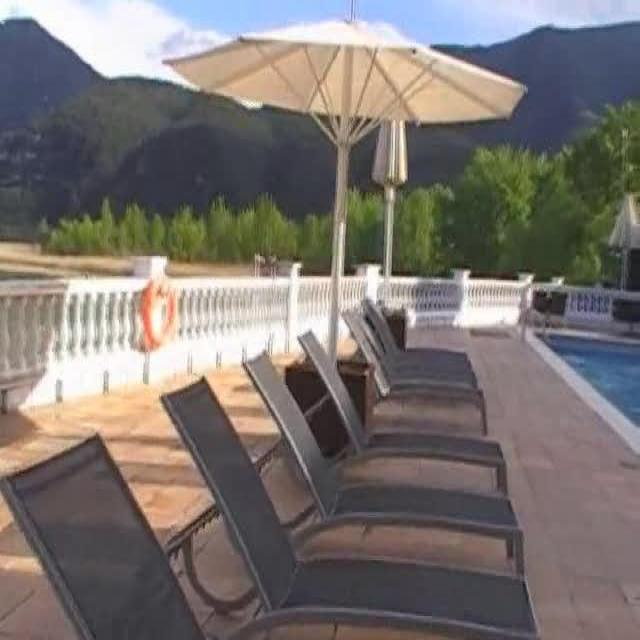other: (66, 280, 305, 344)
